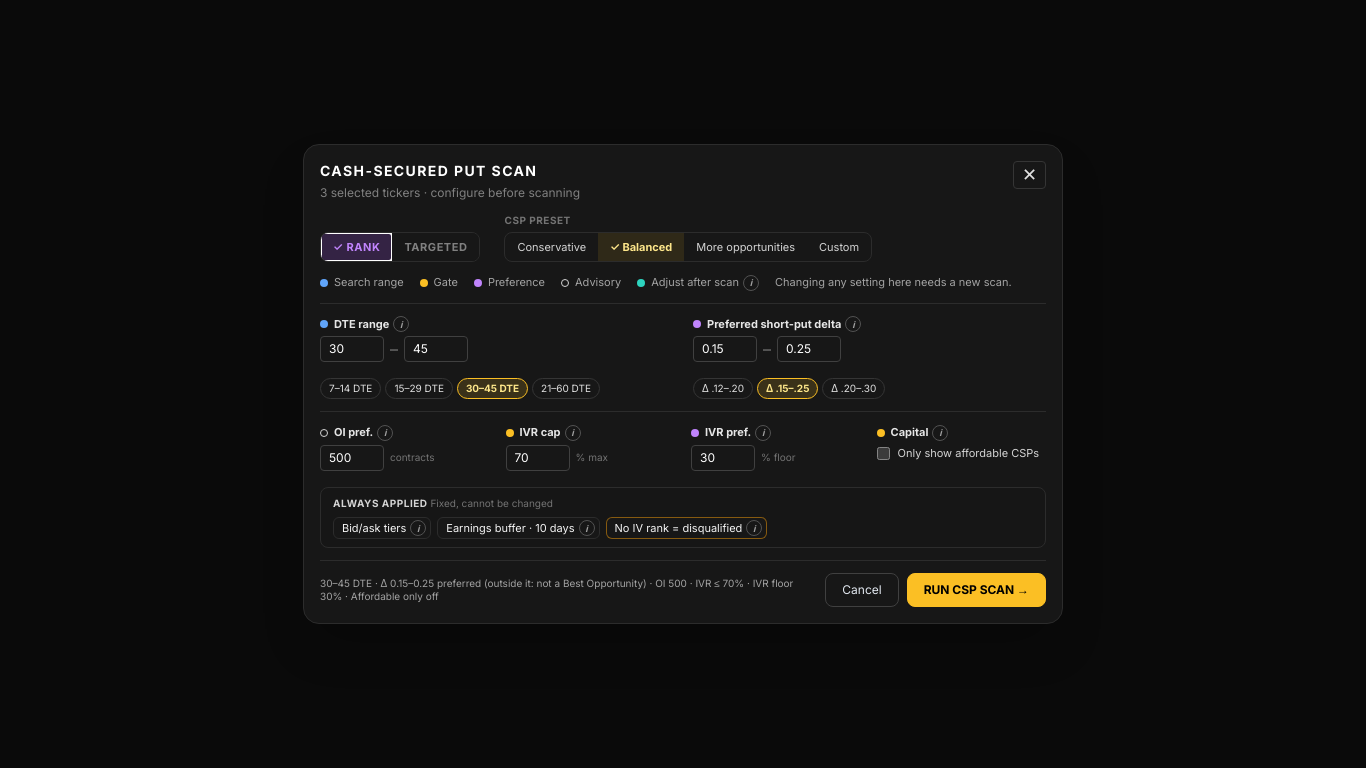
it: modes show only the criteria that apply › Targeted has the gates and no Rank ordering
Click the radio button labelled "TARGETED".
click(436, 247)  # box x1=392 y1=233 x2=480 y2=261
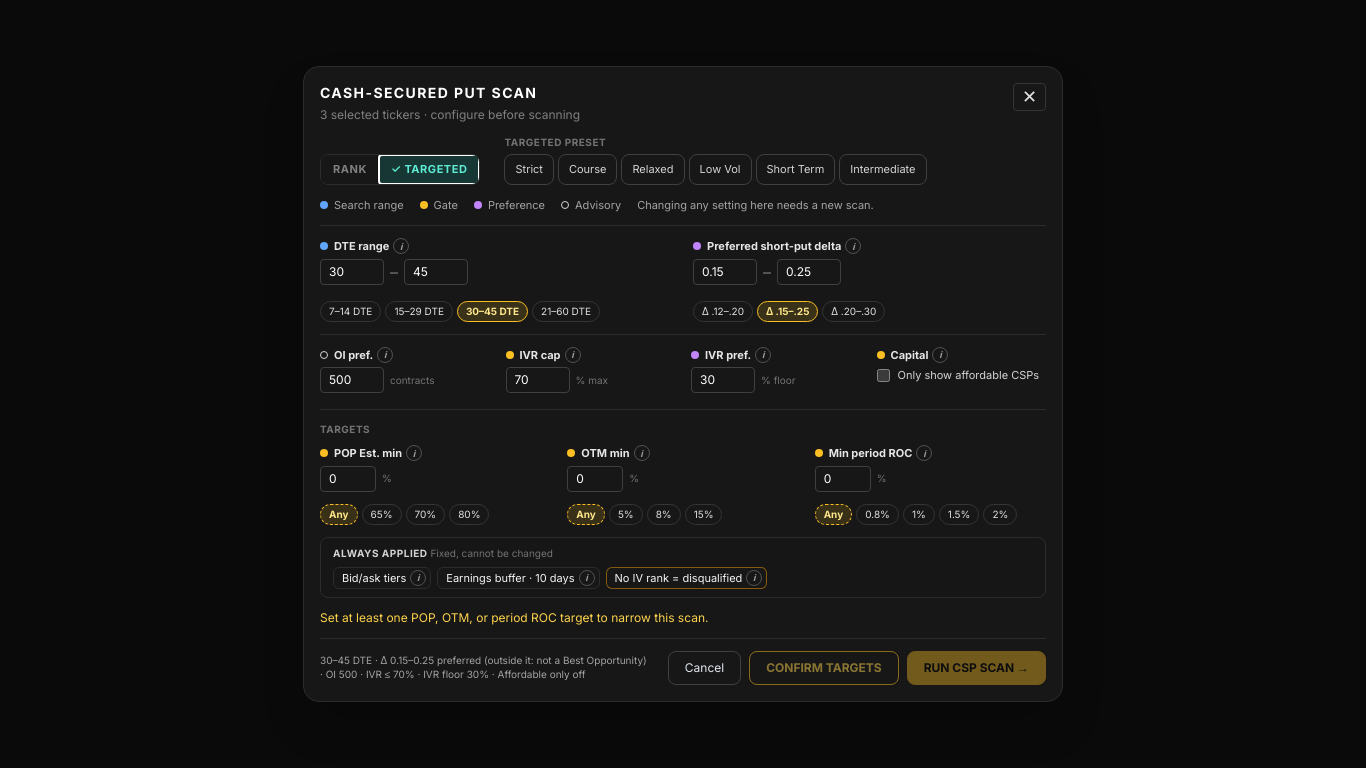
Expected: the field named "Minimum estimated POP" is shown, x1=320 y1=466 x2=376 y2=492
Expected: the field named "Minimum OTM percentage" is shown, x1=567 y1=466 x2=623 y2=492
Expected: the field named "Minimum cash return" is shown, x1=815 y1=466 x2=871 y2=492
